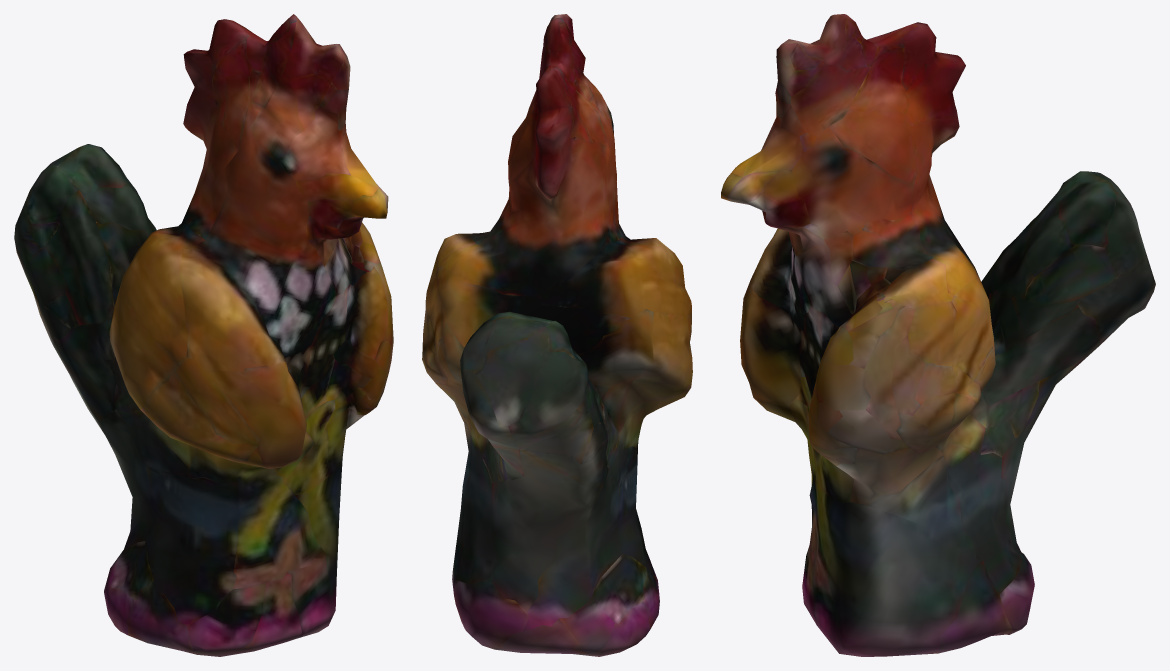
Rendered from hall.glb.
The picture shows the model from 3 angles, left to right: view 1: azimuth 30°, elevation 25°; view 2: azimuth 150°, elevation 25°; view 3: azimuth 270°, elevation 25°; orthographic projection. The views are drawn at different scales.
Size of the model in its own units: 0.3505 by 0.8016 by 0.5026.
Materials: 1 (1 with a texture image).
